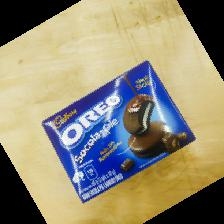Oreo: (41, 59, 197, 202)
